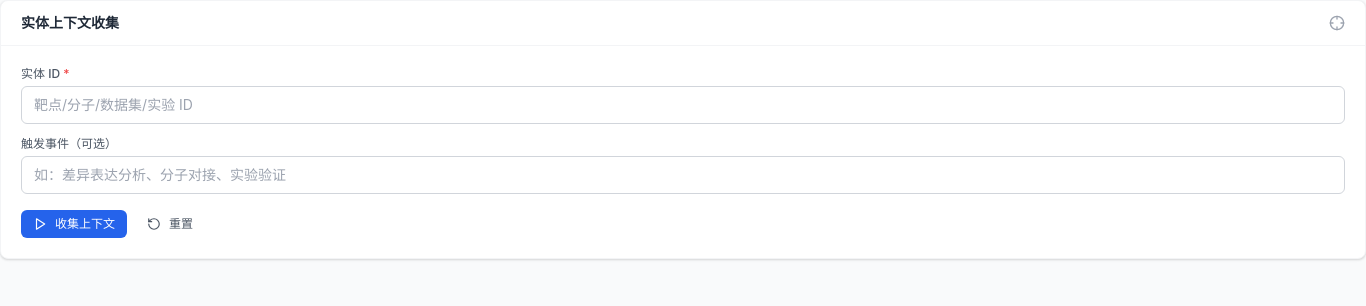
Test: EntityContextCollector › 未填实体 ID 提交显示验证错误
This screenshot has width=1366, height=306.
Step 1. Click the button "收集上下文" → (74, 224), box [21,210,127,238]
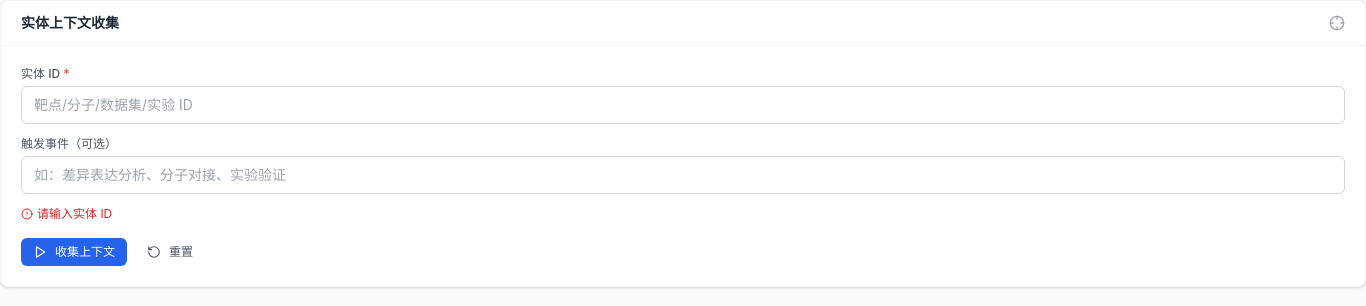
Check: the text "请输入实体 ID" is shown, box [37,206,112,222]
